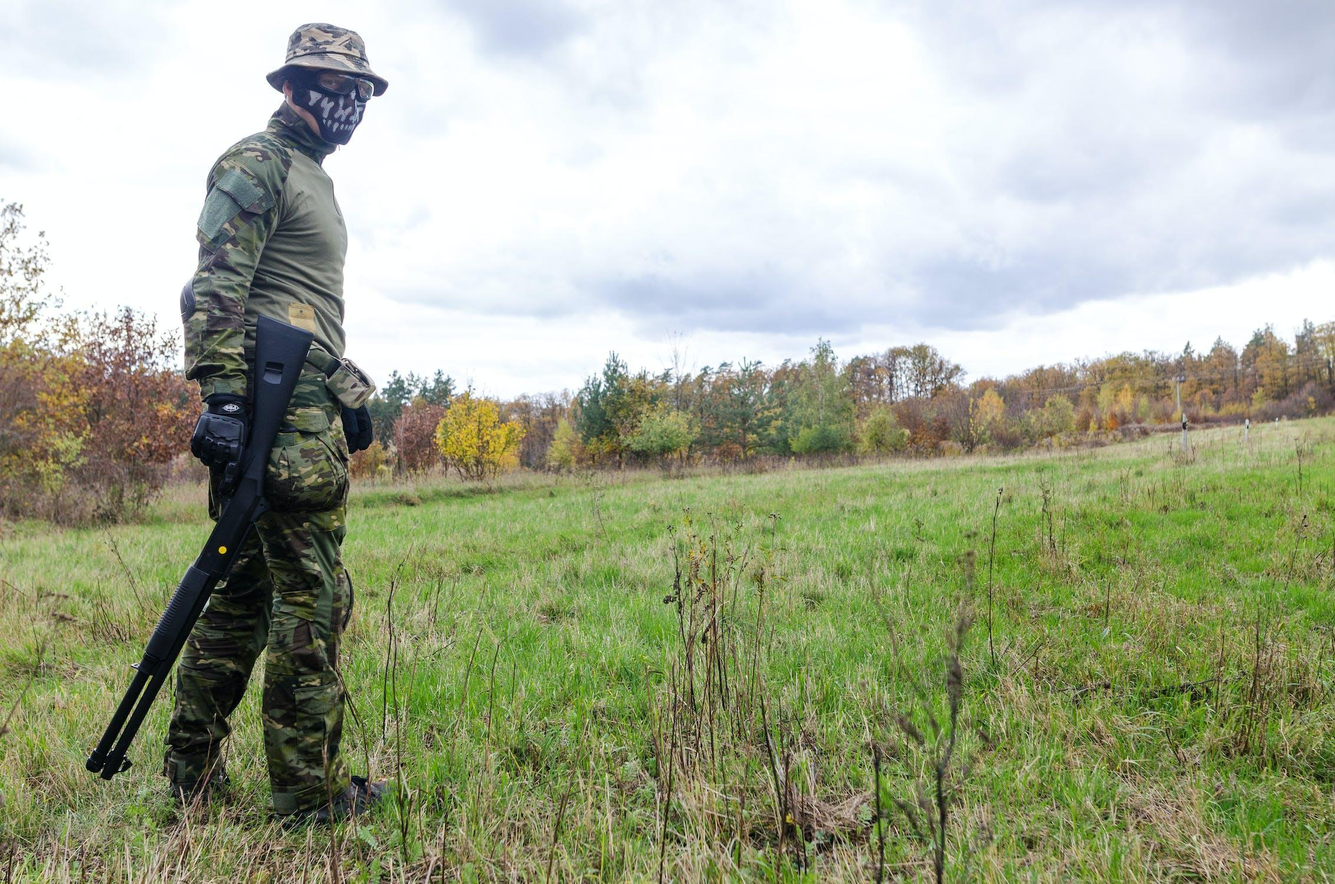larga: (84, 314, 317, 782)
